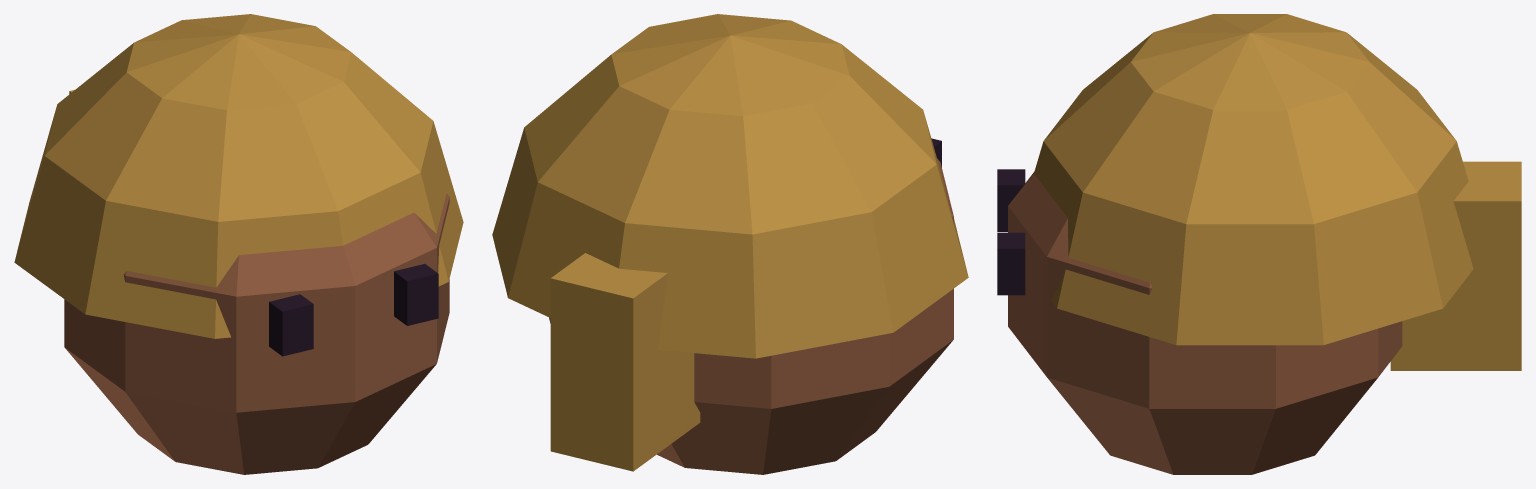
Rendered from head_sefa.gltf.
3 renders of one model, left to right at view 1: azimuth 30°, elevation 25°; view 2: azimuth 150°, elevation 25°; view 3: azimuth 270°, elevation 25°, orthographic. The views are drawn at different scales.
Parts seen in each view (by area): view 1: scarf, skin, eyes; view 2: scarf, skin, knot; view 3: scarf, skin, knot, eyes.
Boxes of the visible parts, x1,y1,x2,y2 form: scarf: (14,14,463,338); skin: (64,193,449,474); eyes: (269,264,438,356); scarf: (492,14,968,358); skin: (549,158,953,474); knot: (550,253,700,471); scarf: (1034,14,1473,345); skin: (1008,172,1402,474); knot: (1390,161,1521,370); eyes: (997,169,1025,295).
Bounding box in the file's own units: 0.485 × 0.505 × 0.56.
